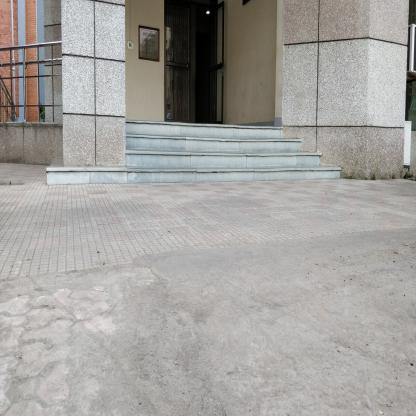stairs: (129, 124, 284, 192)
